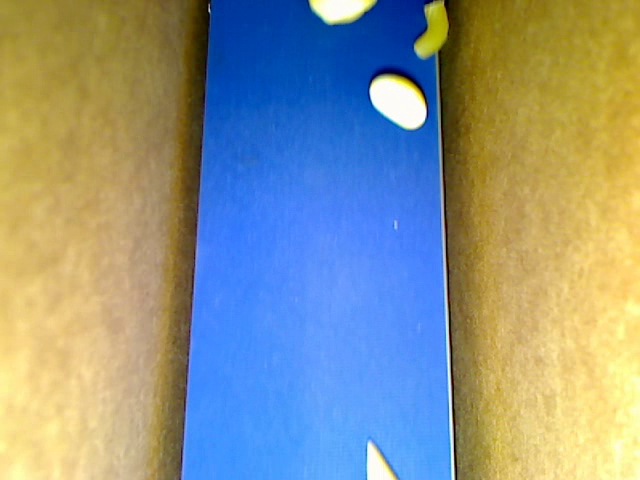elbow: (414, 1, 447, 60)
penne: (366, 439, 397, 479)
